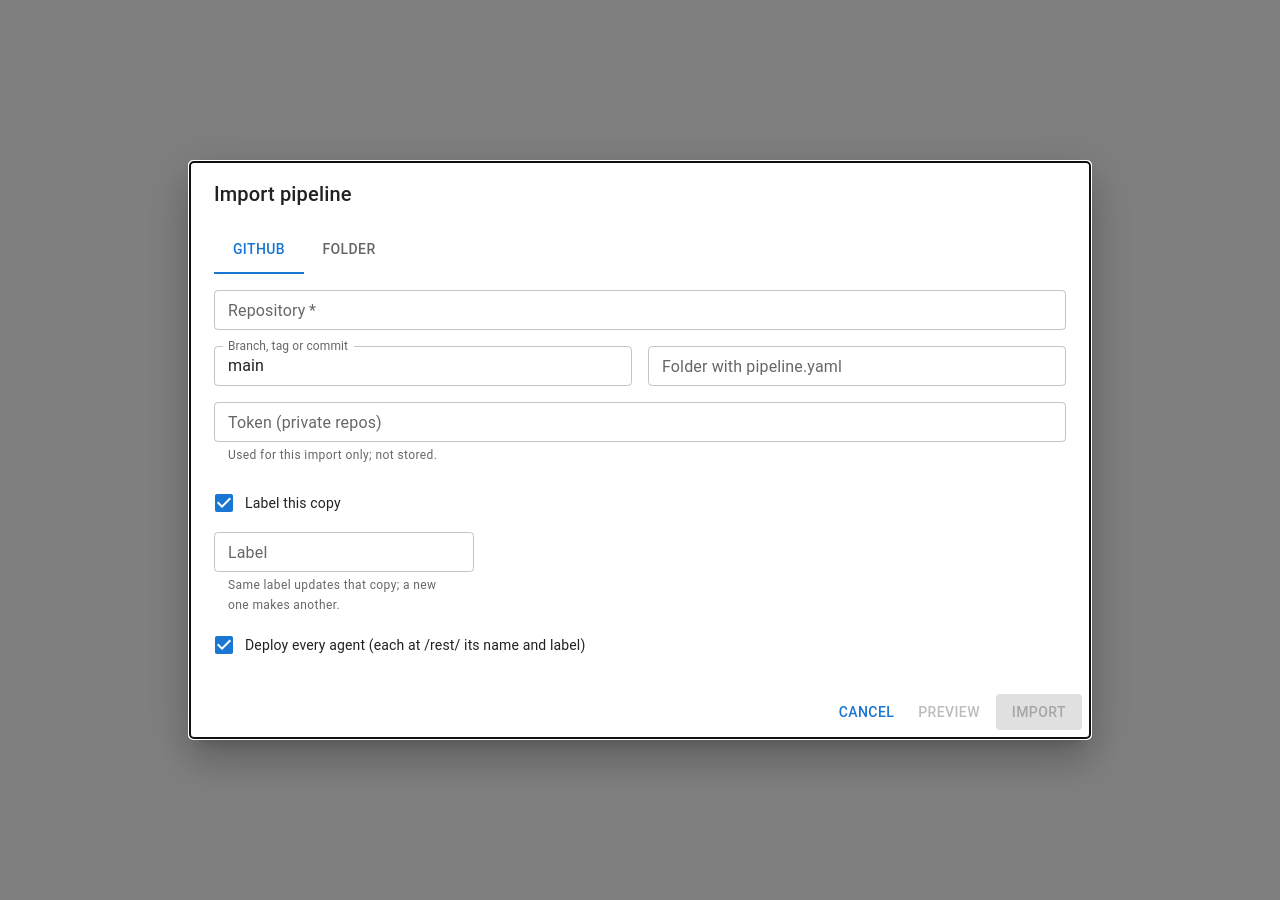
PipelineImportDialog › shows the API reason when a preview fails
Type "a/b" into the field labelled "Repository *" at {"x": 640, "y": 310}, box x1=214 y1=290 x2=1066 y2=330
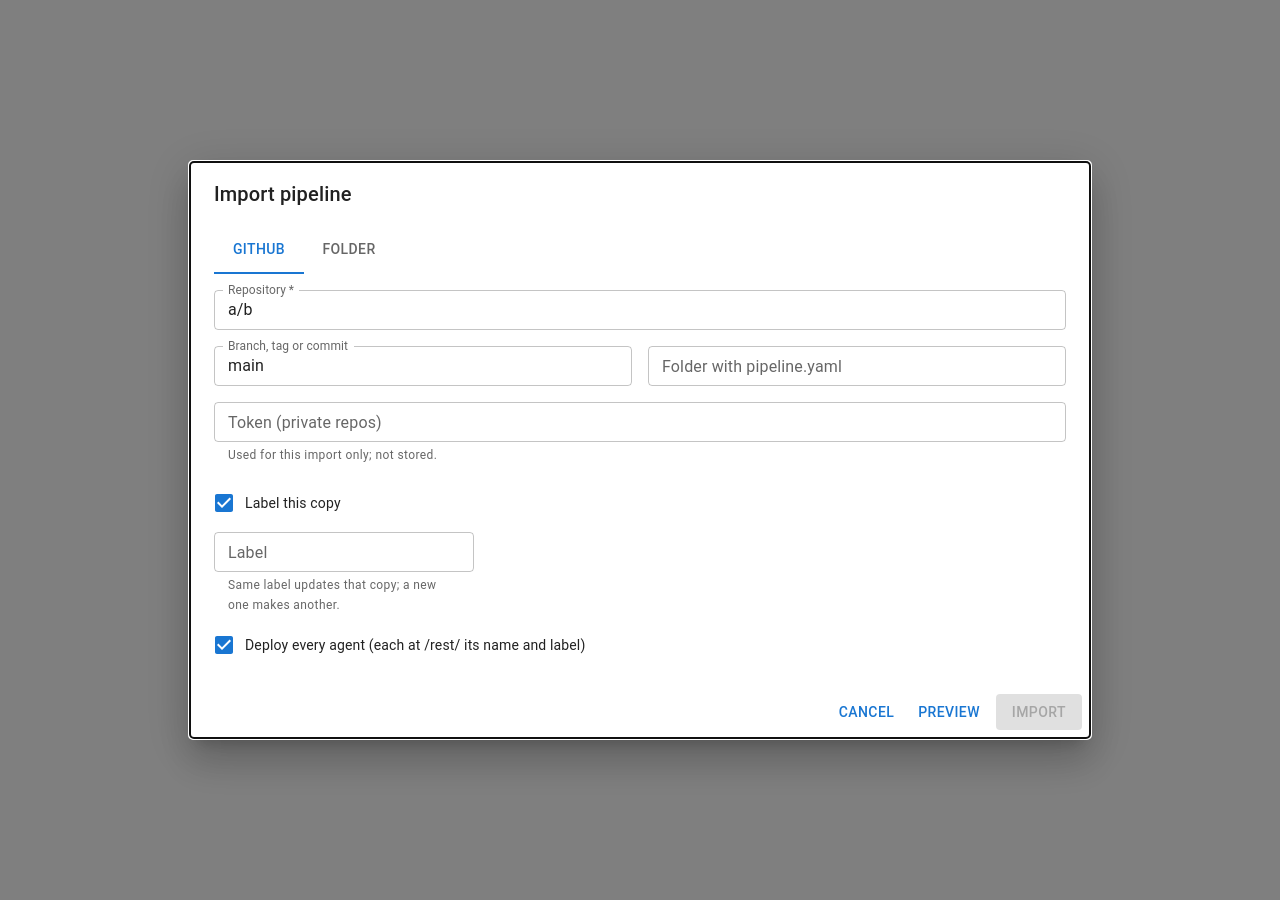
Click the button "Preview" at {"x": 949, "y": 712}, box x1=910 y1=694 x2=988 y2=730
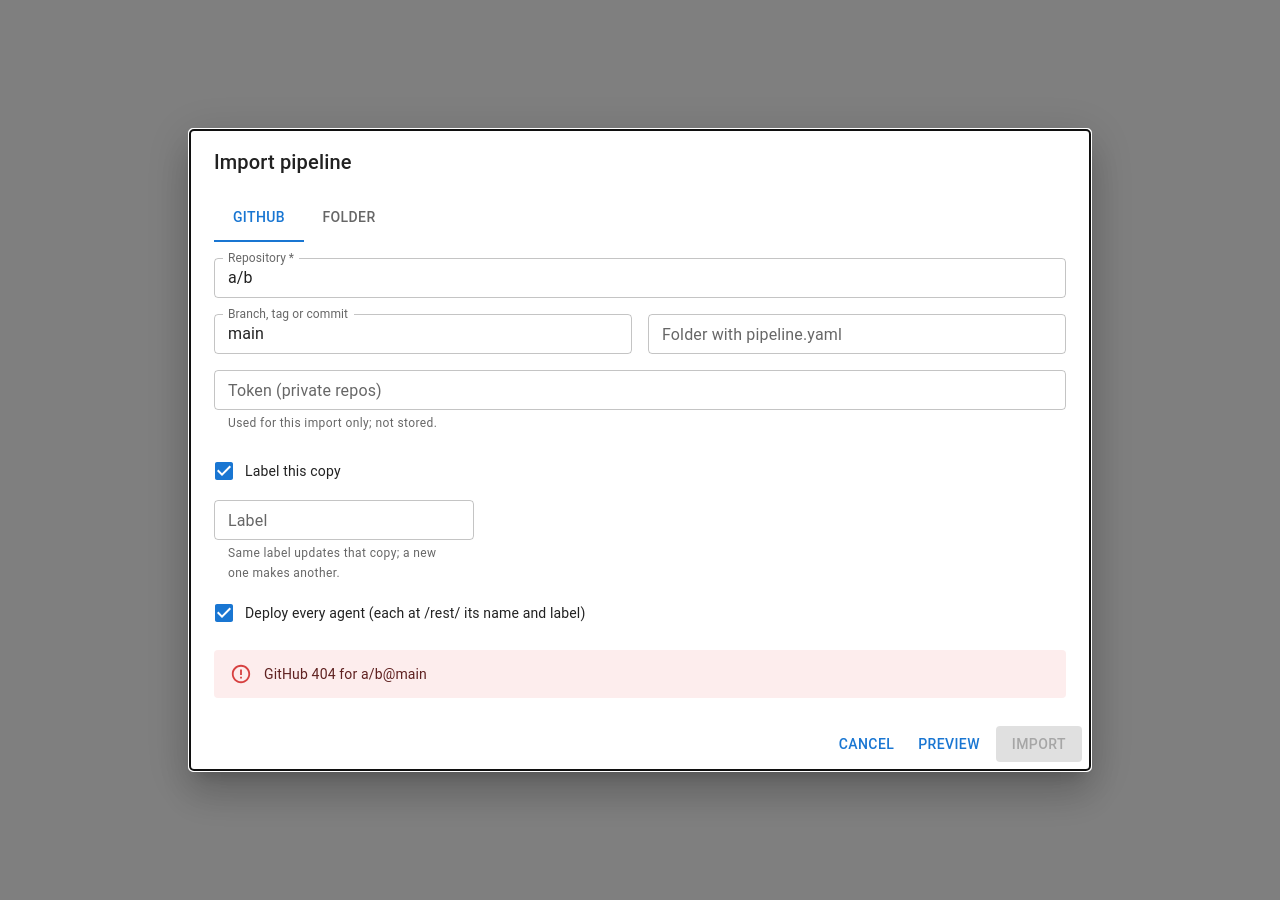
Result: the text "GitHub 404 for a/b@main" is shown at x1=264 y1=666 x2=427 y2=682
